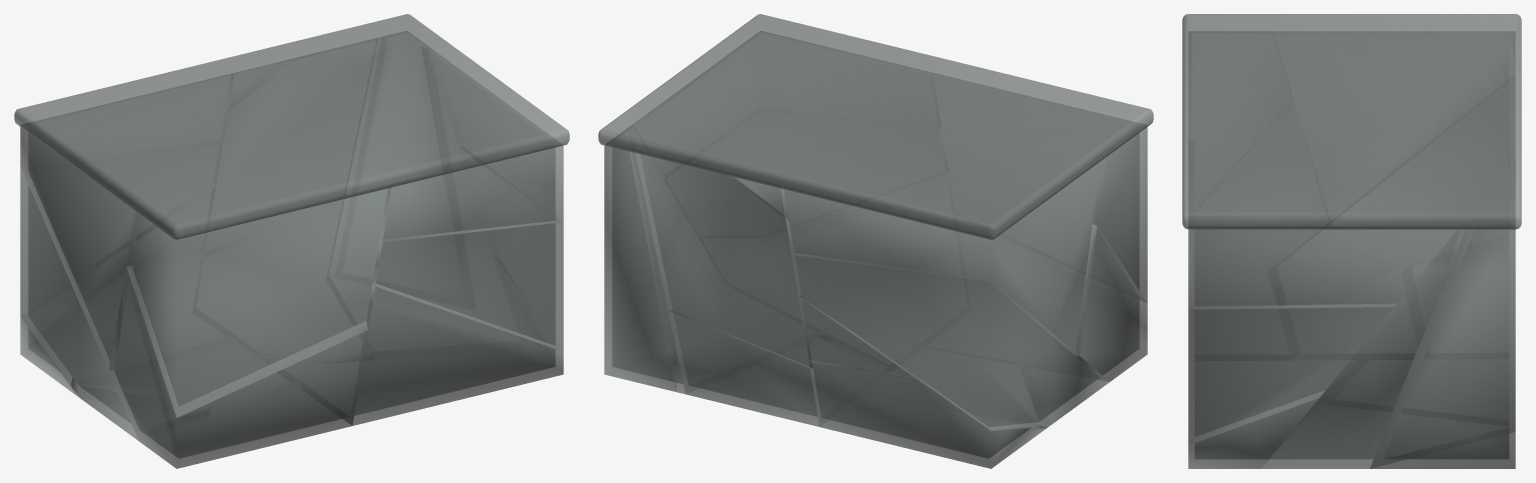
The model's file is fragments.glb.
3 views of the same model, side by side, from view 1: azimuth 30°, elevation 25°; view 2: azimuth 150°, elevation 25°; view 3: azimuth 270°, elevation 25° (orthographic). The views are drawn at different scales.
Visible parts, largest first — view 1: fragment-016-plastic, fragment-004-plastic, fragment-003-plastic, fragment-001-plastic, fragment-013-plastic, fragment-002-plastic, fragment-005-plastic, fragment-009-plastic, fragment-007-plastic, fragment-008-plastic, fragment-006-plastic, fragment-015-plastic (+9 smaller); view 2: fragment-016-plastic, fragment-004-plastic, fragment-003-plastic, fragment-002-plastic, fragment-001-plastic, fragment-013-plastic, fragment-009-plastic, fragment-005-plastic, fragment-008-plastic, fragment-006-plastic, fragment-010-plastic, fragment-007-plastic (+8 smaller); view 3: fragment-016-plastic, fragment-001-plastic, fragment-007-plastic, fragment-003-plastic, fragment-005-plastic, fragment-008-plastic, fragment-009-plastic, fragment-006-plastic, fragment-002-plastic, fragment-004-plastic, fragment-010-plastic, fragment-015-plastic (+5 smaller).
Boxes of the visible parts, bbox=[...] form: fragment-016-plastic: bbox=[14, 14, 569, 239]; fragment-004-plastic: bbox=[126, 185, 391, 417]; fragment-003-plastic: bbox=[20, 146, 221, 440]; fragment-001-plastic: bbox=[20, 74, 233, 370]; fragment-013-plastic: bbox=[205, 39, 377, 257]; fragment-002-plastic: bbox=[270, 257, 563, 425]; fragment-005-plastic: bbox=[109, 267, 367, 468]; fragment-009-plastic: bbox=[375, 148, 563, 351]; fragment-007-plastic: bbox=[343, 31, 464, 300]; fragment-008-plastic: bbox=[382, 51, 563, 241]; fragment-006-plastic: bbox=[329, 37, 519, 350]; fragment-015-plastic: bbox=[197, 202, 370, 353]; fragment-016-plastic: bbox=[598, 14, 1153, 239]; fragment-004-plastic: bbox=[930, 73, 1147, 302]; fragment-003-plastic: bbox=[791, 252, 1109, 430]; fragment-002-plastic: bbox=[701, 173, 966, 364]; fragment-001-plastic: bbox=[780, 154, 1106, 355]; fragment-013-plastic: bbox=[635, 151, 809, 367]; fragment-009-plastic: bbox=[667, 111, 944, 235]; fragment-005-plastic: bbox=[920, 211, 1147, 381]; fragment-008-plastic: bbox=[633, 31, 937, 177]; fragment-006-plastic: bbox=[629, 125, 820, 394]; fragment-010-plastic: bbox=[808, 360, 1045, 468]; fragment-007-plastic: bbox=[604, 128, 676, 391]; fragment-016-plastic: bbox=[1182, 14, 1521, 229]; fragment-001-plastic: bbox=[1273, 32, 1514, 223]; fragment-007-plastic: bbox=[1370, 217, 1515, 468]; fragment-003-plastic: bbox=[1277, 83, 1508, 304]; fragment-005-plastic: bbox=[1195, 101, 1329, 353]; fragment-008-plastic: bbox=[1188, 141, 1458, 309]; fragment-009-plastic: bbox=[1188, 307, 1393, 444]; fragment-006-plastic: bbox=[1261, 213, 1514, 468]; fragment-002-plastic: bbox=[1188, 354, 1359, 468]; fragment-004-plastic: bbox=[1189, 32, 1291, 210]; fragment-010-plastic: bbox=[1412, 234, 1508, 352]; fragment-015-plastic: bbox=[1335, 353, 1508, 419].
Bounding box in the file's own units: 0.3 × 0.1773 × 0.2123.
Materials: 2 (2 with a texture image).
